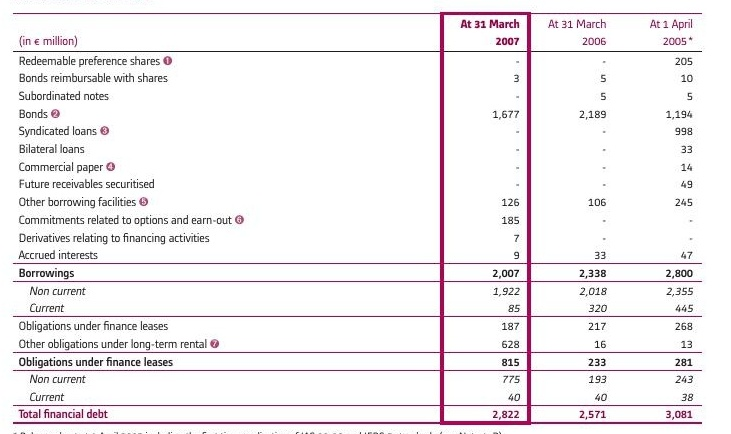table: (0, 0, 731, 434)
